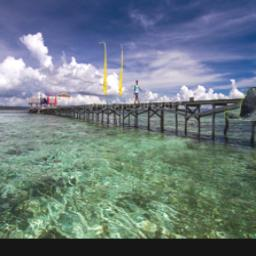Crow: (225, 88, 256, 122)
